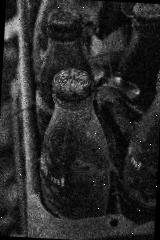glass: (34, 68, 119, 222), (33, 5, 104, 147), (119, 61, 160, 224), (116, 2, 160, 92)
